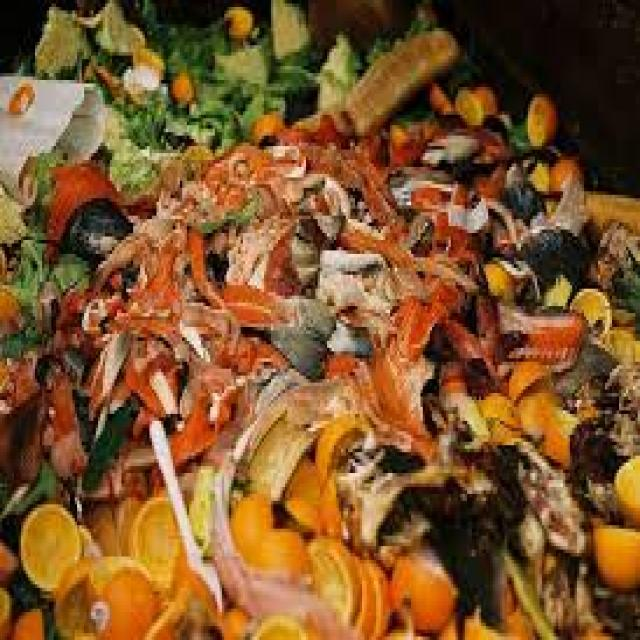food_waste: (13, 22, 622, 617), (67, 203, 588, 564), (158, 53, 440, 624)
